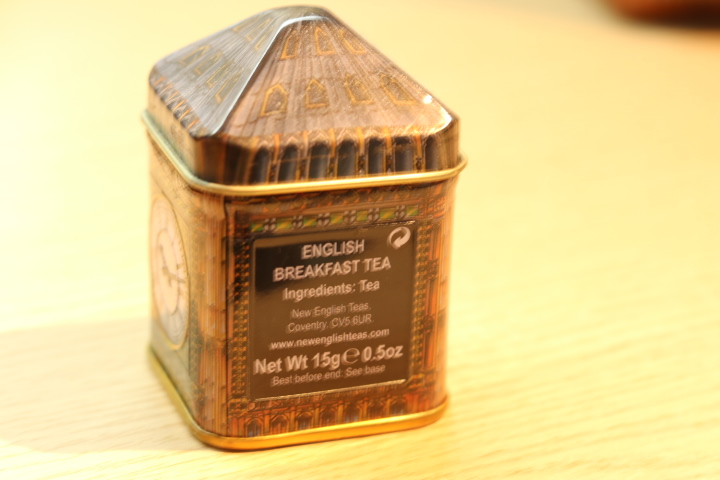Big Ben: (135, 4, 483, 470)
